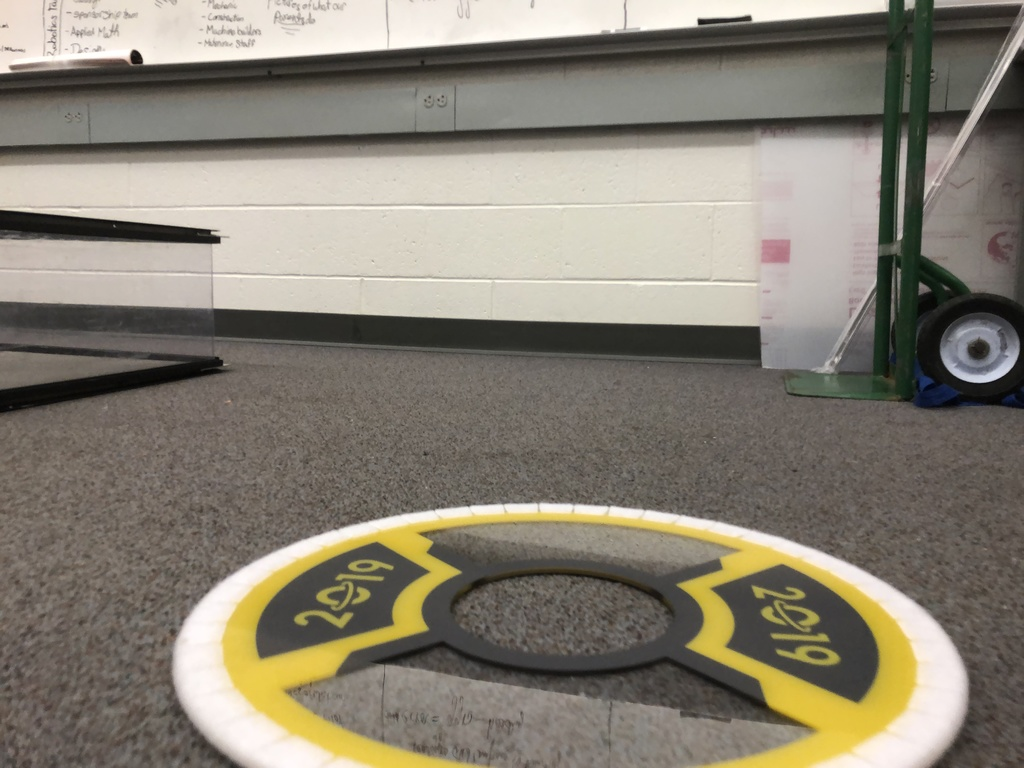hatch_panel: (120, 479, 987, 768)
